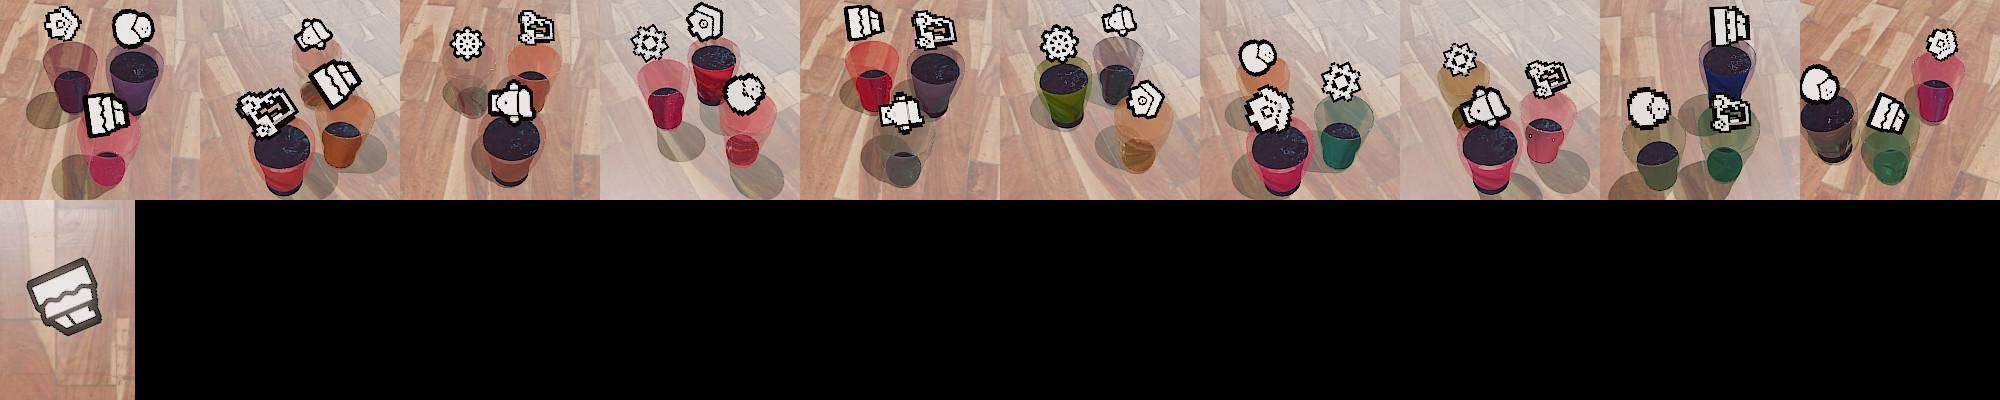icon: (24, 256, 106, 339), (235, 87, 300, 141), (306, 59, 364, 110), (1457, 84, 1514, 130), (1242, 84, 1295, 134), (487, 78, 537, 125), (83, 92, 131, 138), (1625, 85, 1672, 130), (879, 89, 927, 132), (911, 8, 957, 52), (1866, 92, 1909, 136), (1524, 59, 1571, 98), (1709, 5, 1751, 48), (1319, 60, 1361, 102), (724, 73, 767, 115), (1040, 22, 1080, 65), (629, 22, 670, 64), (1710, 92, 1751, 134), (111, 9, 154, 48), (1125, 78, 1166, 118), (1798, 62, 1839, 103), (686, 1, 726, 42), (843, 4, 884, 42), (42, 5, 82, 43), (517, 8, 555, 46), (1439, 41, 1478, 78), (1239, 38, 1278, 75), (293, 17, 333, 52), (449, 25, 485, 61), (1101, 4, 1138, 38), (1925, 27, 1958, 60)
